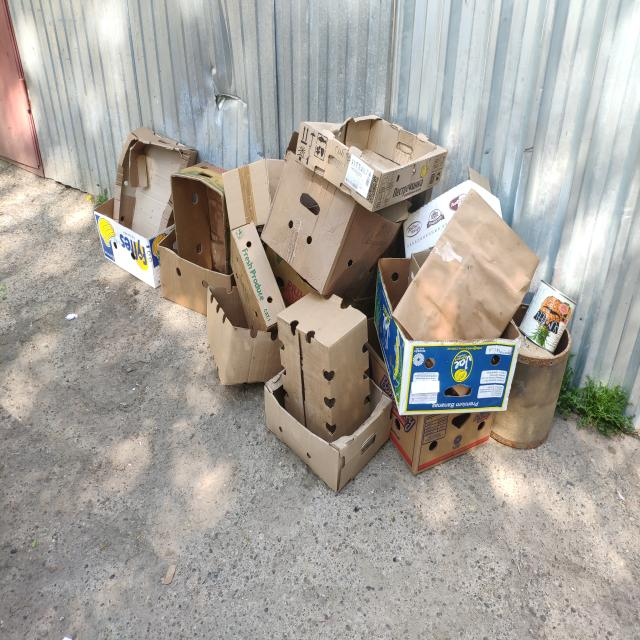entulho: (233, 104, 448, 311), (263, 276, 408, 496), (371, 176, 542, 345), (492, 278, 575, 451), (109, 128, 201, 242), (388, 392, 492, 476), (208, 290, 286, 391), (94, 193, 175, 284), (171, 158, 235, 264), (158, 239, 236, 312), (220, 158, 289, 232)
